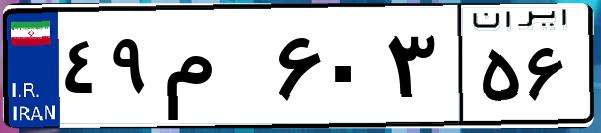0: (330, 28, 385, 110)
3: (385, 28, 445, 110)
4: (57, 26, 110, 100)
5: (475, 38, 525, 113)
6: (270, 28, 330, 110), (525, 38, 570, 115)
9: (110, 28, 158, 98)
م: (158, 20, 270, 120)
